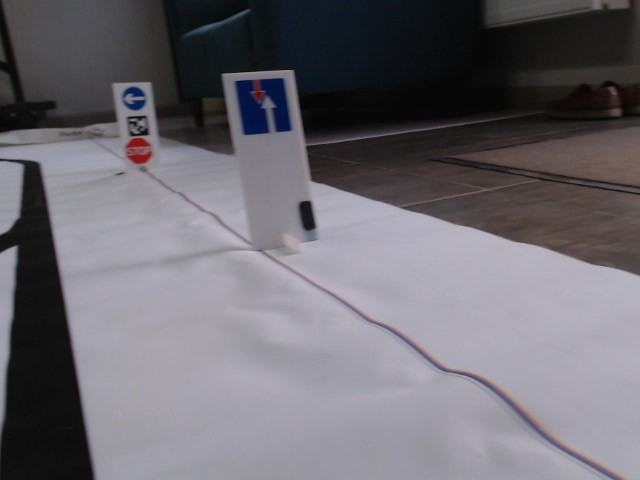Stop: (125, 138, 152, 164)
priority_movement: (230, 78, 294, 135)
